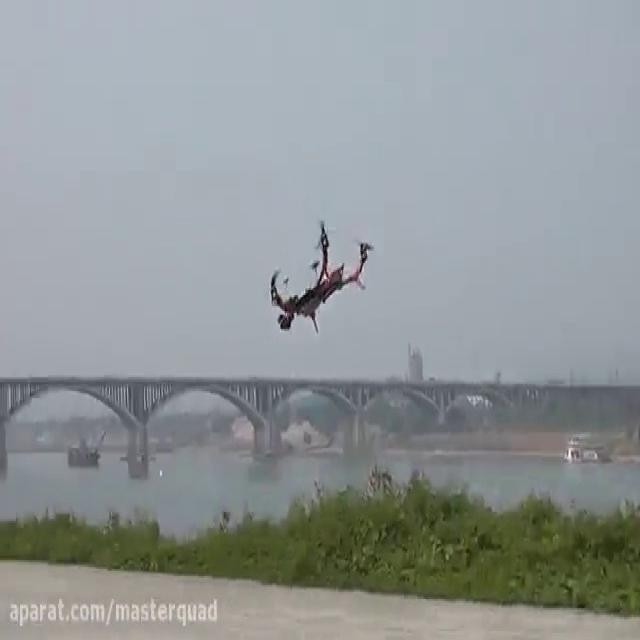drone: (266, 215, 377, 336)
